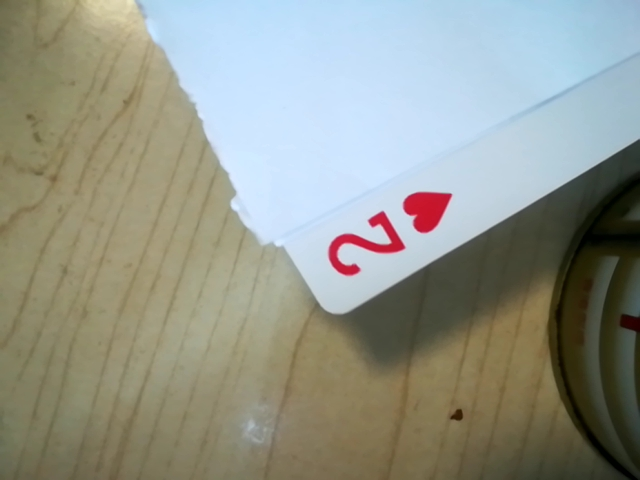hx 2: (308, 190, 455, 287)
